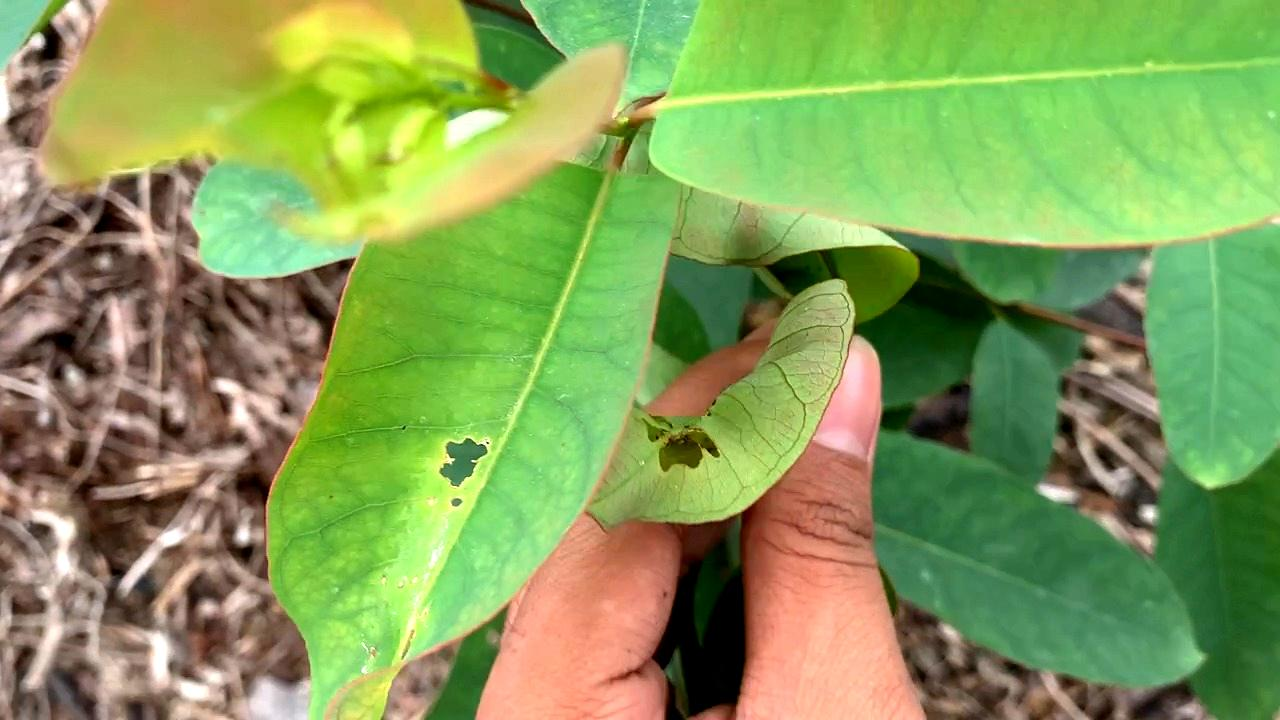Leaf Roller - Leaf: (576, 275, 858, 527)
